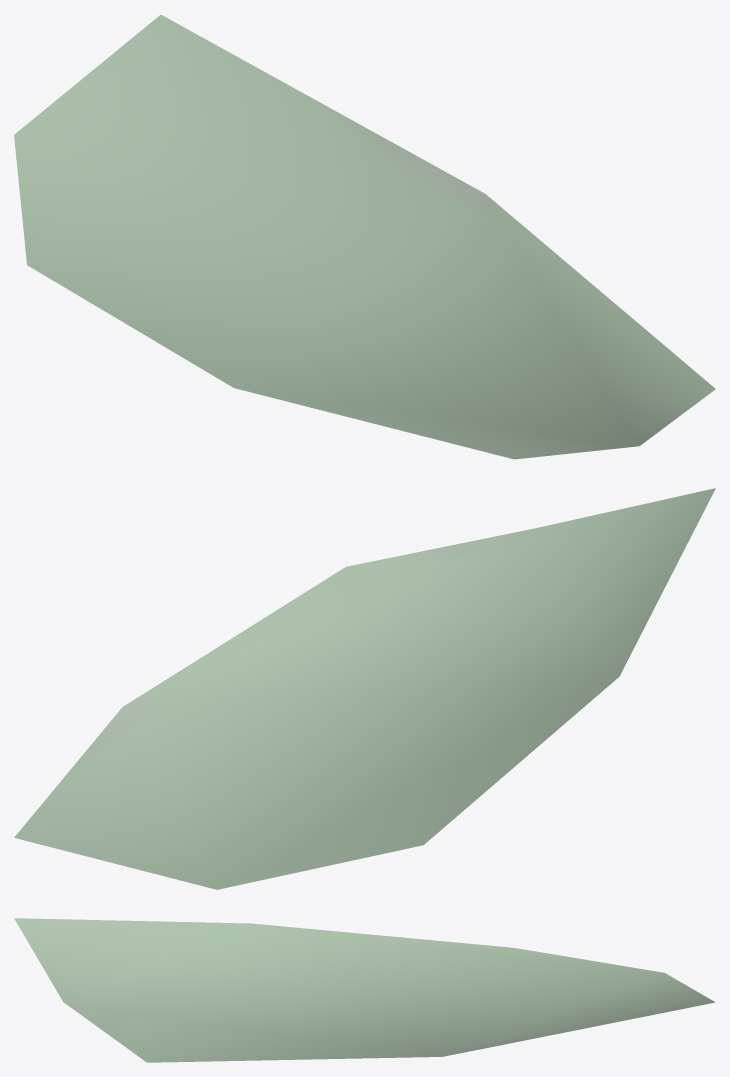
File: TROLLHOLE02_HOLECAP50.fbx
3 renders of one model, top to bottom at view 1: azimuth 30°, elevation 25°; view 2: azimuth 150°, elevation 25°; view 3: azimuth 270°, elevation 25°, orthographic. The views are drawn at different scales.
Parts seen in each view (by area): view 1: TROLLHOLE02_HOLECAP50; view 2: TROLLHOLE02_HOLECAP50; view 3: TROLLHOLE02_HOLECAP50.
Part boxes in pixels (bbox=[...]): TROLLHOLE02_HOLECAP50: bbox=[14, 14, 715, 459]; TROLLHOLE02_HOLECAP50: bbox=[14, 488, 715, 889]; TROLLHOLE02_HOLECAP50: bbox=[14, 918, 715, 1062].
Size of the model in its own units: 16850 by 3415 by 41167.
Materials: 1 (1 with a texture image).
